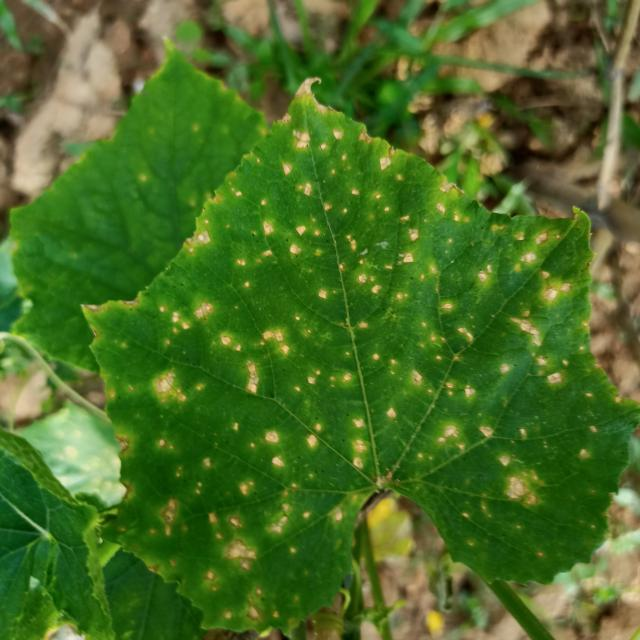disease_cucumber: (148, 122, 476, 408), (320, 250, 596, 528), (118, 329, 358, 621)
